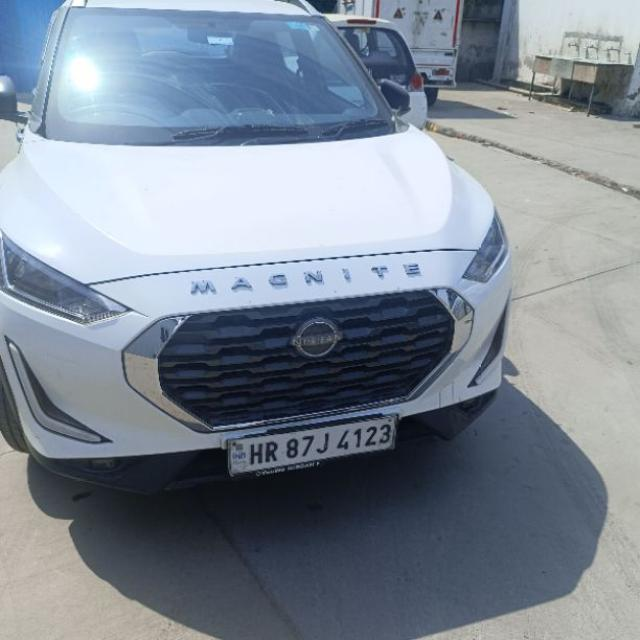license_plate: (225, 414, 398, 478)
